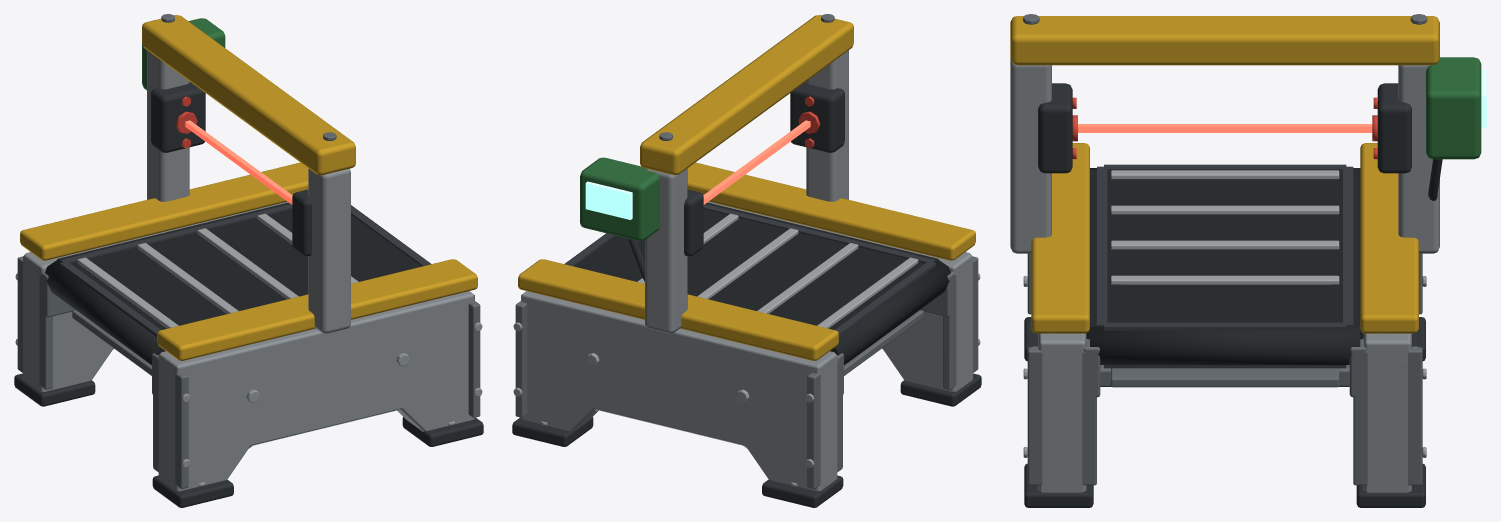
File: fw_sensor.glb
3 views of the same model, side by side, from view 1: azimuth 30°, elevation 25°; view 2: azimuth 150°, elevation 25°; view 3: azimuth 270°, elevation 25° (orthographic). The views are drawn at different scales.
Parts seen in each view (by area): view 1: prism, belt, block.030, block.002, block.008, block.026, prism.001, cyl.001, block.028, block.029, block.003, block.009 (+15 smaller); view 2: prism.001, belt, block.030, block.008, block.002, prism, block.028, block, cyl.001, block.026, block.027, block.009 (+15 smaller); view 3: belt, block.030, cyl.002, block.008, block.002, prism, prism.001, block.026, block, block.028, block.021, block.005 (+17 smaller).
Part boxes in pixels (x1,y1,x2,y2): prism: [158, 291, 474, 491]; belt: [57, 202, 421, 329]; block.030: [142, 15, 355, 175]; block.002: [157, 259, 477, 360]; block.008: [20, 162, 308, 260]; block.026: [308, 168, 350, 333]; prism.001: [23, 201, 288, 391]; cyl.001: [45, 259, 165, 365]; block.028: [147, 50, 189, 201]; block.029: [151, 82, 205, 152]; block.003: [153, 360, 188, 488]; block.009: [17, 256, 52, 389]; prism.001: [521, 291, 837, 491]; belt: [574, 202, 938, 329]; block.030: [640, 15, 853, 175]; block.008: [518, 259, 838, 360]; block.002: [687, 162, 975, 260]; prism: [707, 201, 972, 391]; block.028: [645, 168, 687, 333]; block: [580, 157, 659, 241]; cyl.001: [830, 259, 950, 365]; block.026: [806, 50, 848, 201]; block.027: [790, 82, 844, 152]; block.009: [807, 360, 842, 488]; belt: [1086, 169, 1363, 339]; block.030: [1010, 16, 1439, 65]; cyl.002: [1090, 326, 1360, 364]; block.008: [1360, 143, 1418, 333]; block.002: [1031, 143, 1089, 333]; prism: [1038, 333, 1086, 492]; prism.001: [1363, 333, 1411, 492]; block.026: [1010, 59, 1051, 253]; block: [1426, 57, 1481, 159]; block.028: [1398, 65, 1439, 253]; block.021: [1111, 368, 1339, 387]; block.005: [1027, 347, 1096, 485].
Size of the model in its own units: 1.22 by 1.29 by 1.38.
